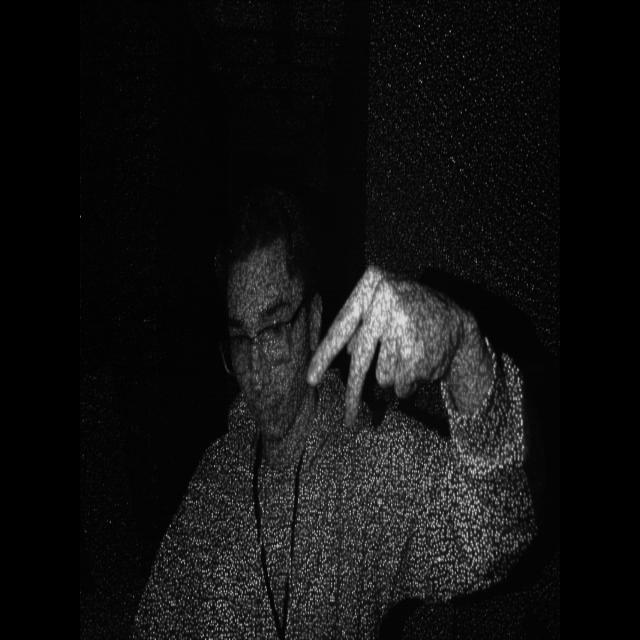P: (303, 249, 465, 433)
